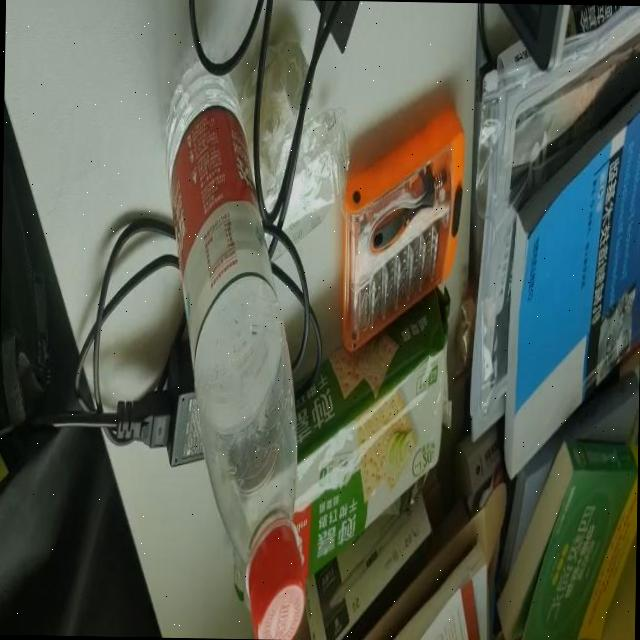bottle: (156, 43, 311, 631)
cap: (243, 534, 306, 640)
label: (170, 124, 269, 366)
